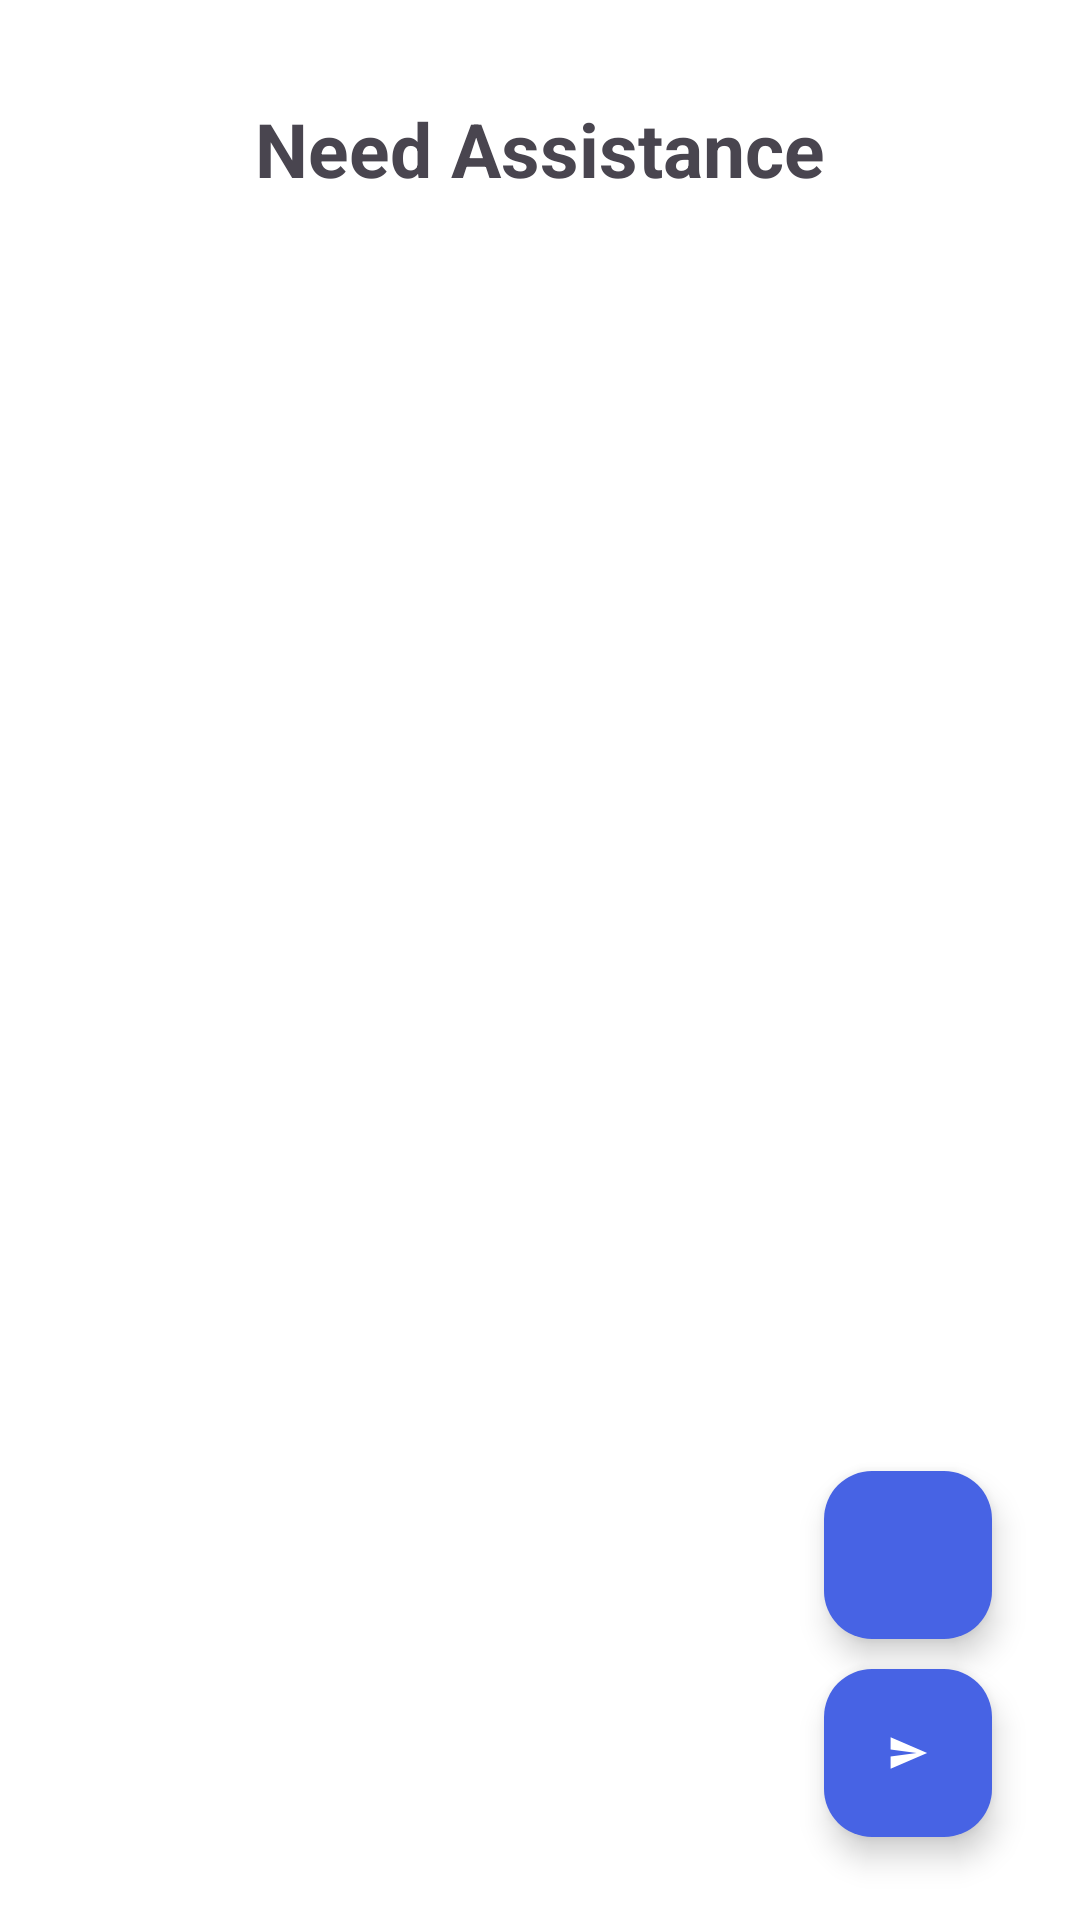

Locate icon controls on the screen. Image size 1080w x 1920h, boxes as {"x1": x1, "y1": y1, "x2": x2, "y2": y2}.
send: {"x1": 824, "y1": 1669, "x2": 992, "y2": 1837}
